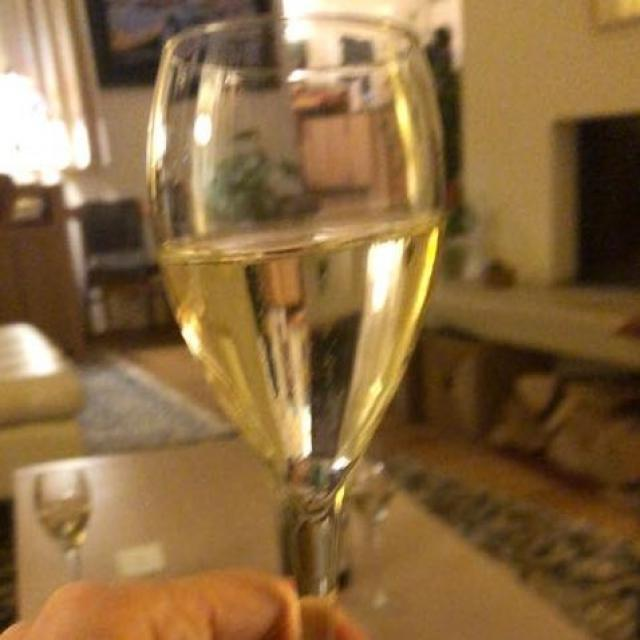wine: (146, 192, 446, 493), (139, 197, 432, 477)
